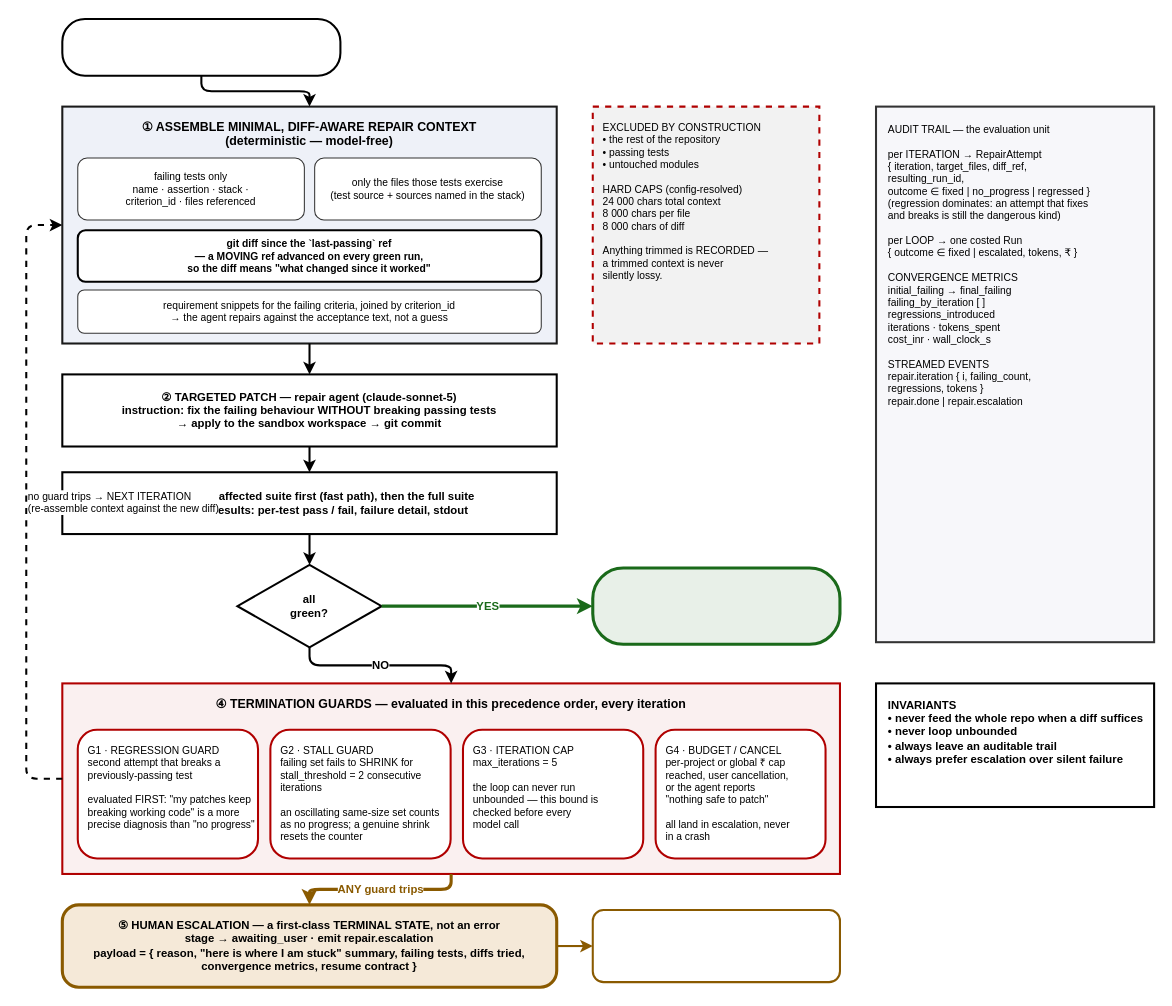
The diagram is 1172 pixels wide and 1006 high, and some of its shapes have lost their labels. The shapes that lost their labels are listed below. From the top down, each one's centre as x and y in pixels, then its label:
the point at 201,47: TestRun with ≥ 1 failing test (from Test stage, or from live validation)
the point at 716,605: OUTCOME = fixed `last-passing` ref advances Run closed with cost + metrics
the point at 715,945: user guidance re-enters BUILD → repair may resume
